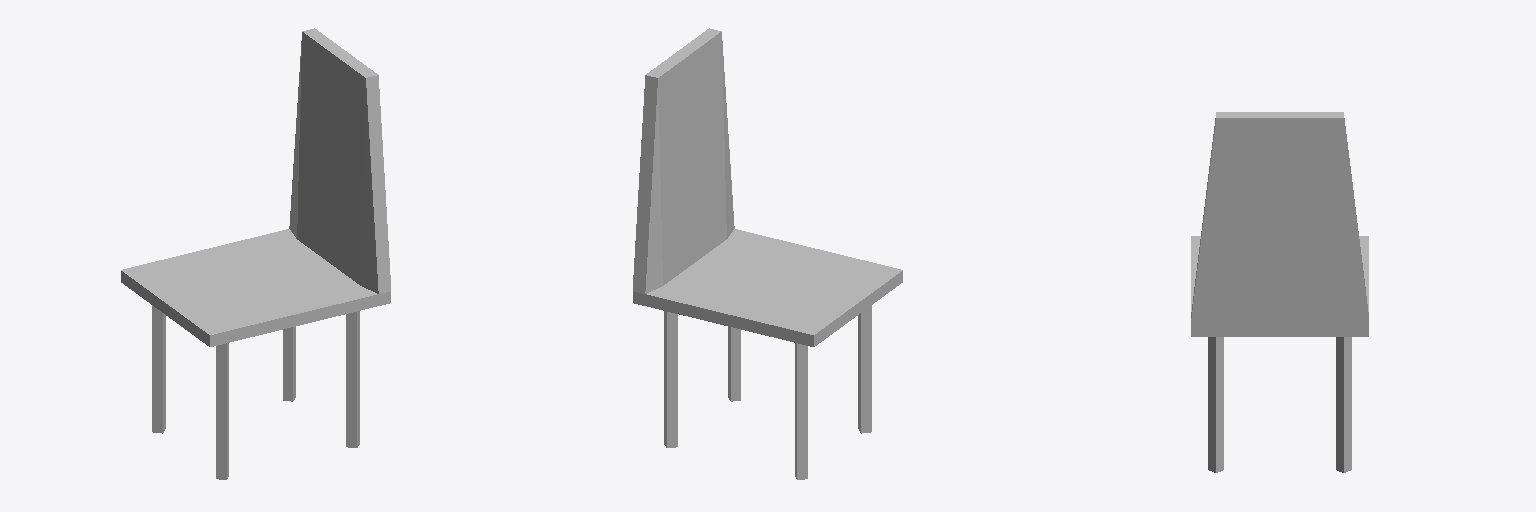
Rendered from Chair_Cube.obj.
The picture shows the model from 3 angles: view 1: azimuth 30°, elevation 25°; view 2: azimuth 150°, elevation 25°; view 3: azimuth 270°, elevation 25°; orthographic projection.
Parts seen in each view (by area): view 1: chair_Cube.003; view 2: chair_Cube.003; view 3: chair_Cube.003.
Part boxes in pixels (left/top/right/bottom): chair_Cube.003: left=121, top=28, right=390, bottom=479; chair_Cube.003: left=633, top=28, right=902, bottom=479; chair_Cube.003: left=1191, top=112, right=1368, bottom=472.
Bounding box in the file's own units: 0.8 × 1.53 × 0.6819.